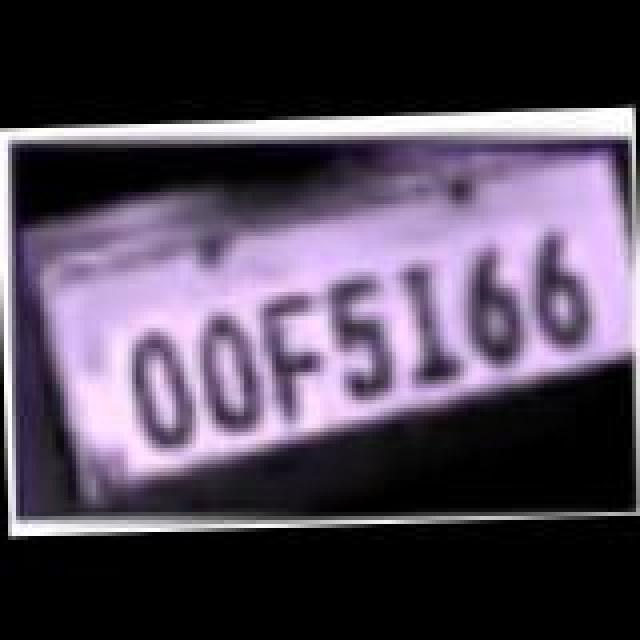5: (308, 270, 412, 406)
6: (438, 238, 546, 374), (502, 226, 610, 358)
F: (240, 286, 348, 426)
I: (378, 256, 478, 392)
O: (172, 308, 280, 444), (108, 322, 216, 458)
